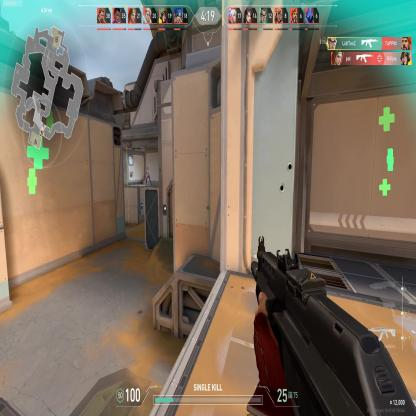enemy: (144, 165, 153, 187)
